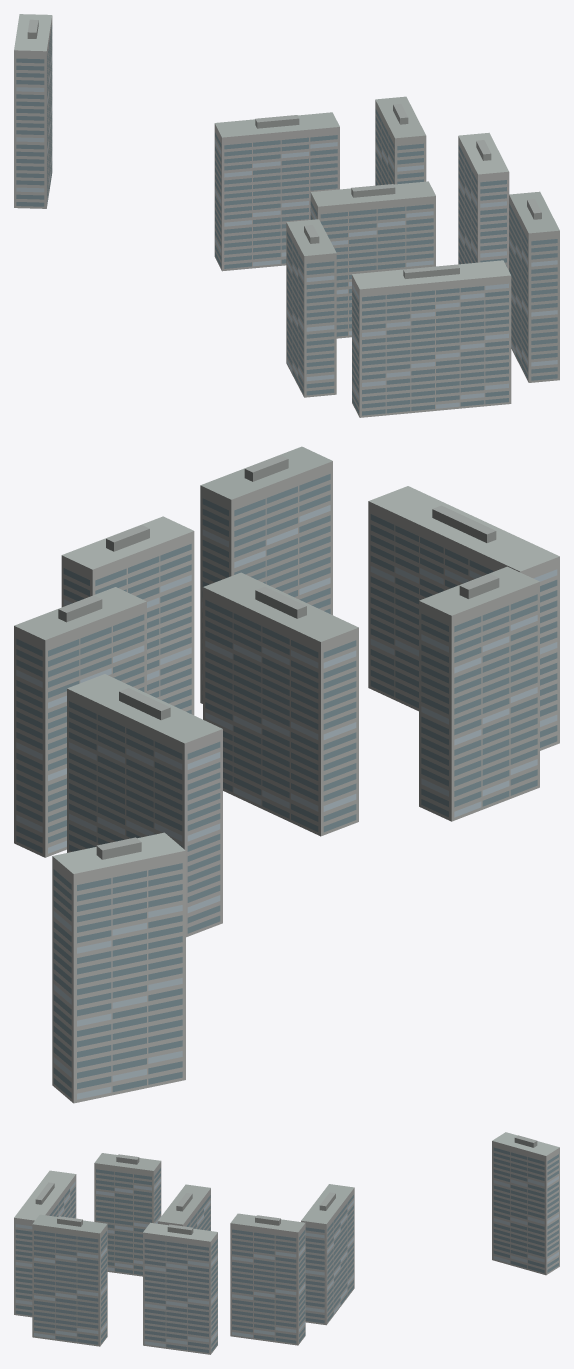
File: apt-a15005402.glb
3 renders of one model, top to bottom at view 1: azimuth 30°, elevation 25°; view 2: azimuth 150°, elevation 25°; view 3: azimuth 270°, elevation 25°, orthographic. The views are drawn at different scales.
Parts seen in each view (by area): view 1: apt-a15005402; view 2: apt-a15005402; view 3: apt-a15005402.
Part boxes in pixels (x1,y1,x2,y2): apt-a15005402: (14,14,559,417); apt-a15005402: (14,446,559,1103); apt-a15005402: (14,1132,559,1354).
Size of the model in its own units: 109 by 61 by 243.
